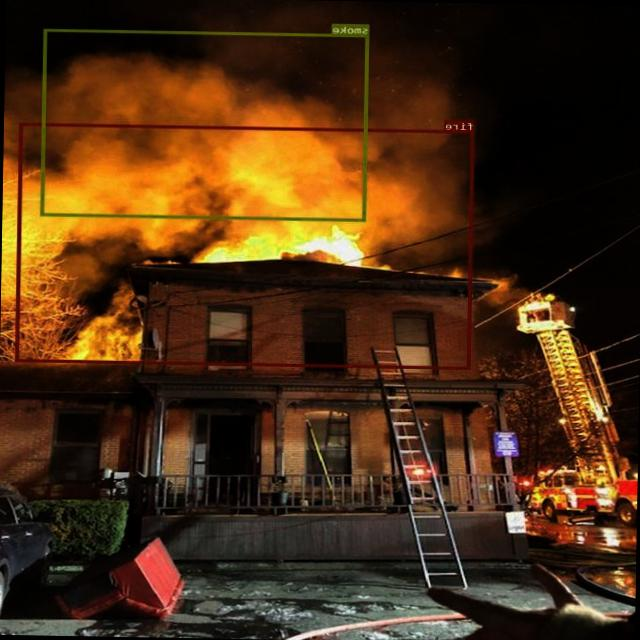fire: (17, 122, 476, 368)
smoke: (41, 28, 370, 220)
